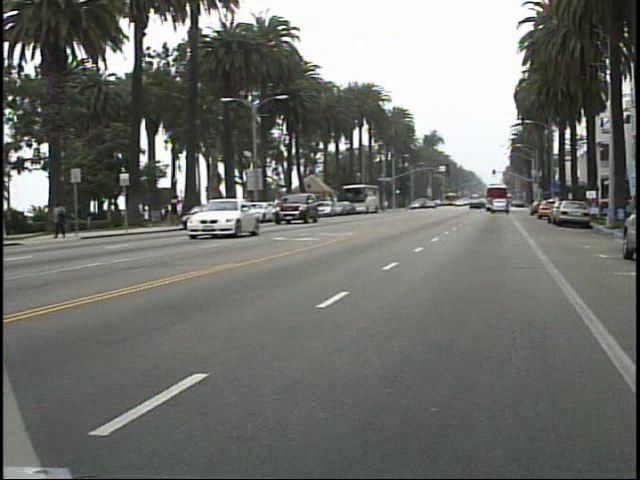person: (57, 195, 79, 239), (173, 191, 192, 226)
